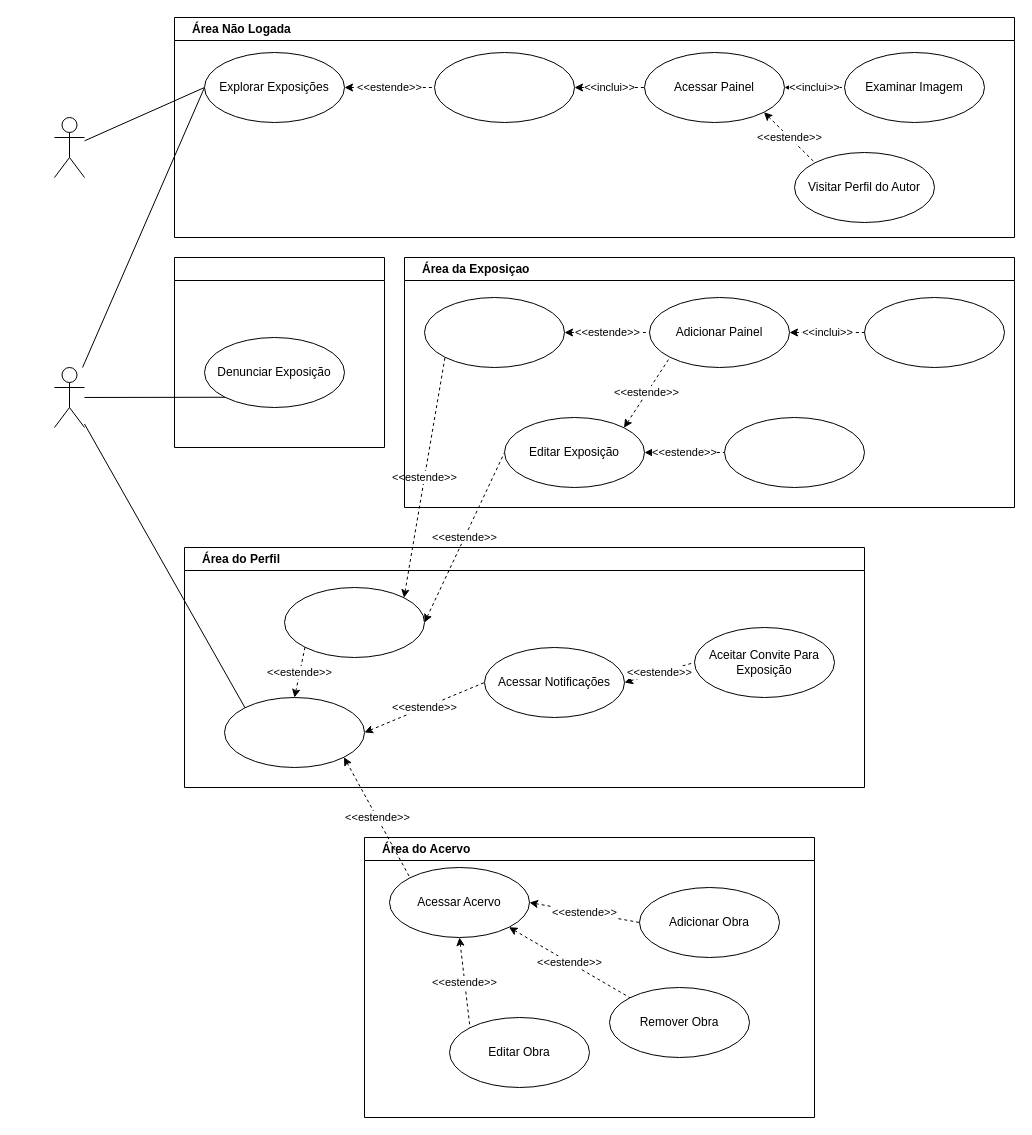
This 1032x1135 diagram has some shape labels left out. Here are the shapes that lost their labels. From the top down, the centre of each, then its label:
At point 504,87: "Acessar Exposição".
At point 69,147: "Visitante".
At point 279,352: "Área Logada".
At point 494,332: "Criar Exposição".
At point 934,332: "Convidar Usuário".
At point 69,397: "Usuário Com Conta".
At point 794,452: "Remover Painel".
At point 354,622: "Acessar Exposições Criadas".
At point 294,732: "Acessar Perfil".
